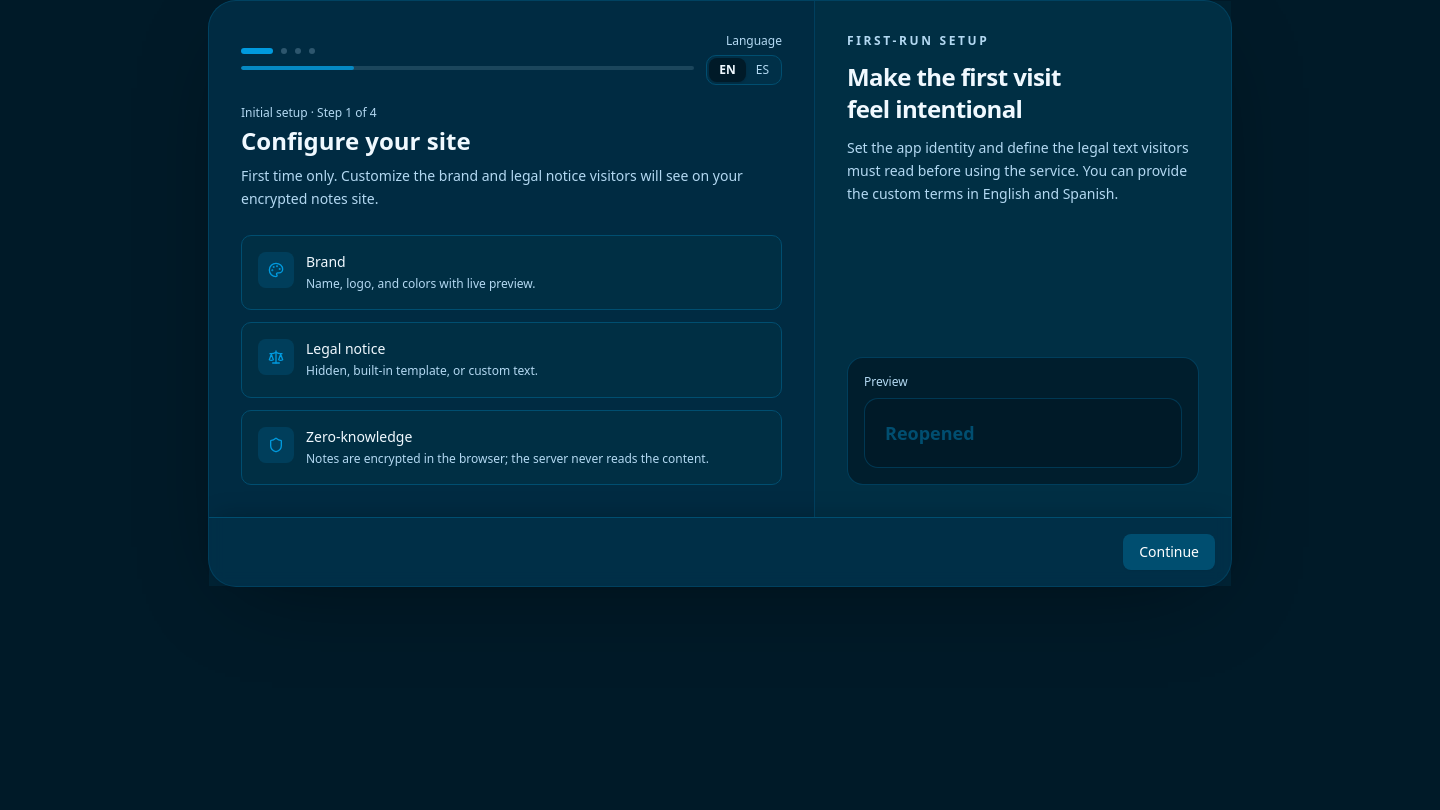
Test: ProjectSetupModal › re-initializes when modal closes and reopens
The image size is (1440, 810).
Earlier steps of the test are not shown.
Click the button "Continue" at (1169, 552), box x1=1123 y1=534 x2=1215 y2=570
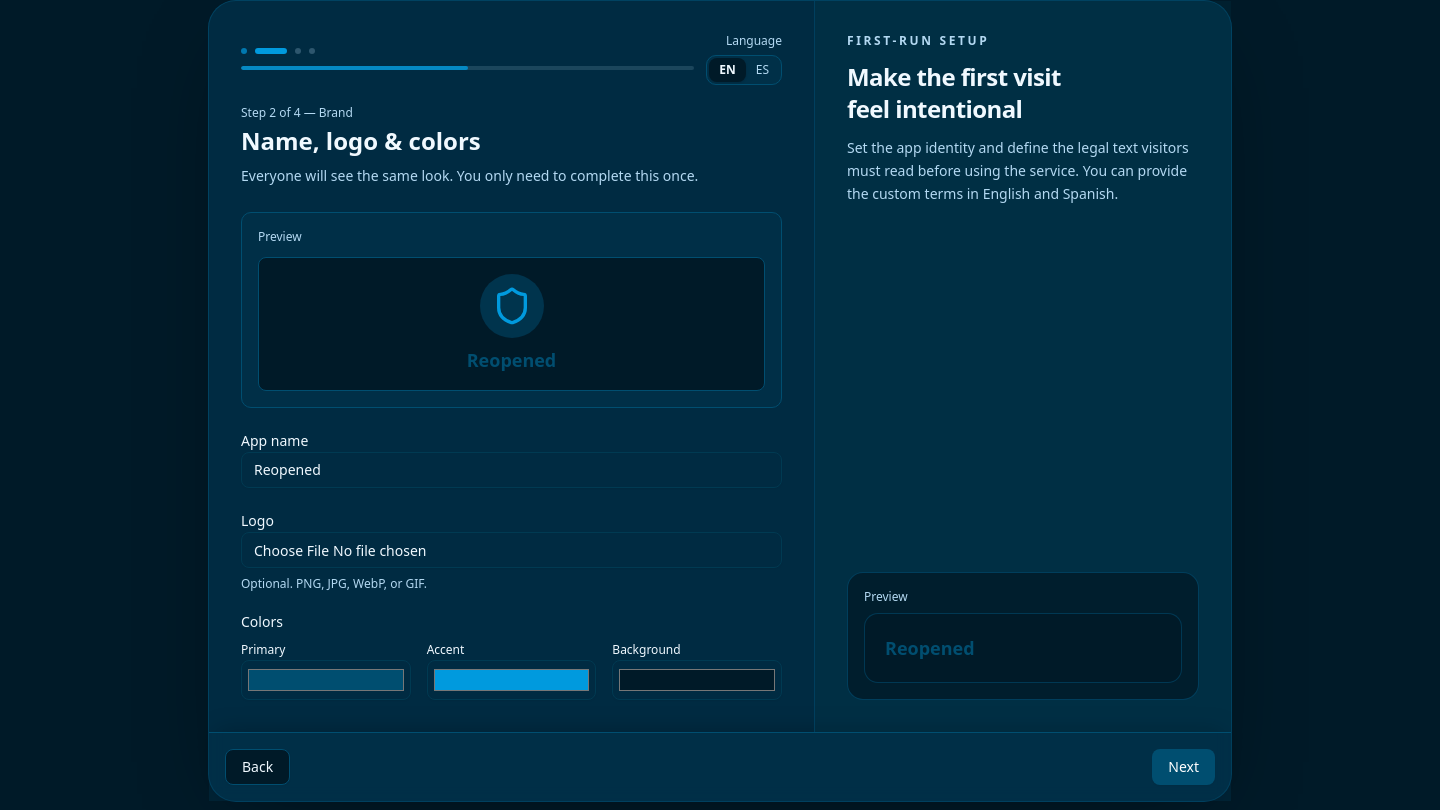
Result: the field labelled "App name" holds "Reopened" at x1=241 y1=452 x2=782 y2=488
